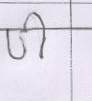i_matra: (28, 12, 51, 58)
